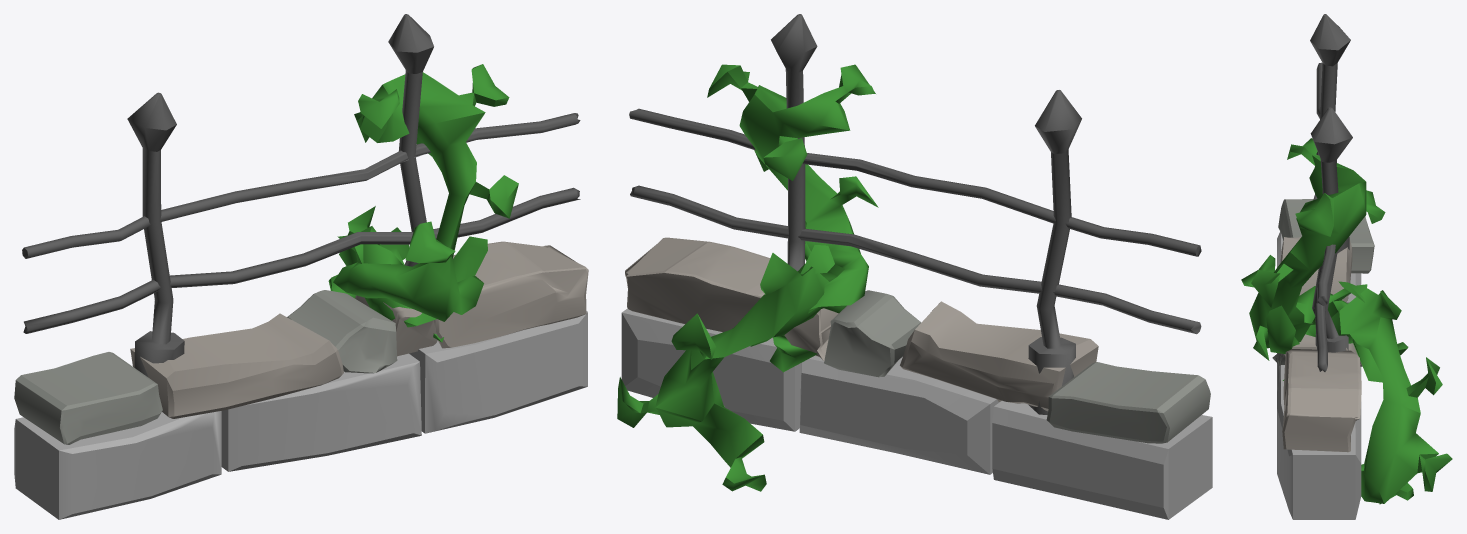
Rendered from gfence3.fbx.
3 renders of one model, left to right at view 1: azimuth 30°, elevation 25°; view 2: azimuth 150°, elevation 25°; view 3: azimuth 270°, elevation 25°, orthographic. The views are drawn at different scales.
Visible parts, largest first — view 1: StoneWall_short; view 2: StoneWall_short; view 3: StoneWall_short.
Part boxes in pixels (box(x1,y1,x2,y2)): StoneWall_short: box(14, 14, 588, 519); StoneWall_short: box(617, 14, 1212, 519); StoneWall_short: box(1241, 14, 1452, 519).
Bounding box in the file's own units: 1.04 × 0.8001 × 0.3942.
